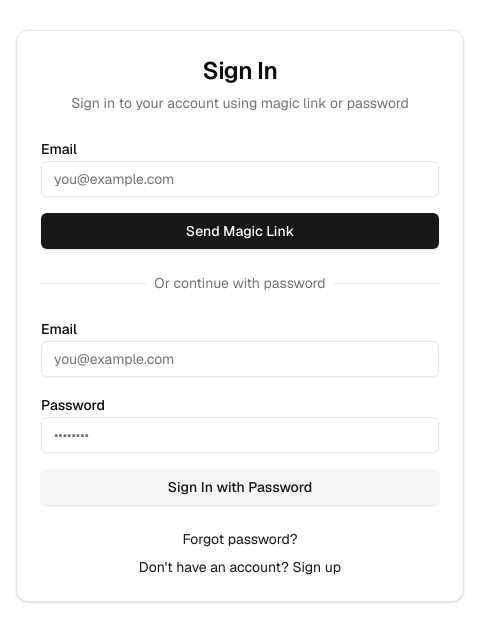
LoginPage › should show error for invalid email on password login
The image size is (481, 634).
In the 2nd field labelled "Email": {"x": 240, "y": 359} [41, 341, 439, 377], type "invalid-email"
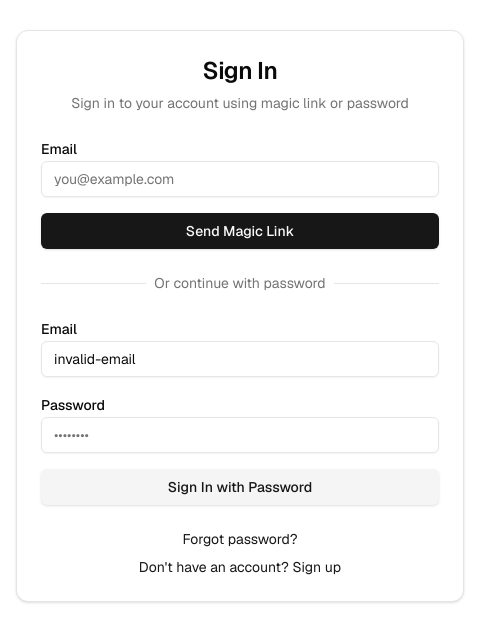
In the password field labelled "Password": {"x": 240, "y": 435} [41, 417, 439, 453], type "password123"
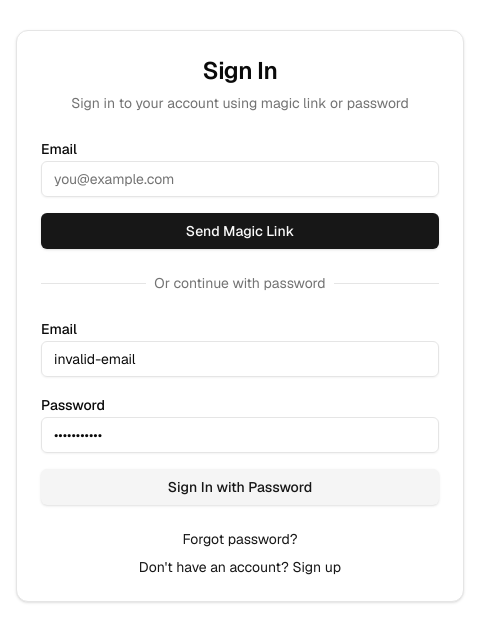
Click the button "Sign In with Password": {"x": 240, "y": 487} [41, 469, 439, 505]
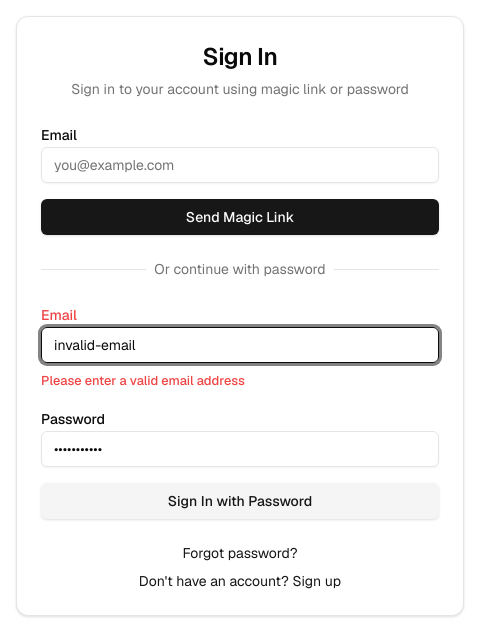
Expected: the text "Please enter a valid email address" is shown, [41, 372, 245, 389]
